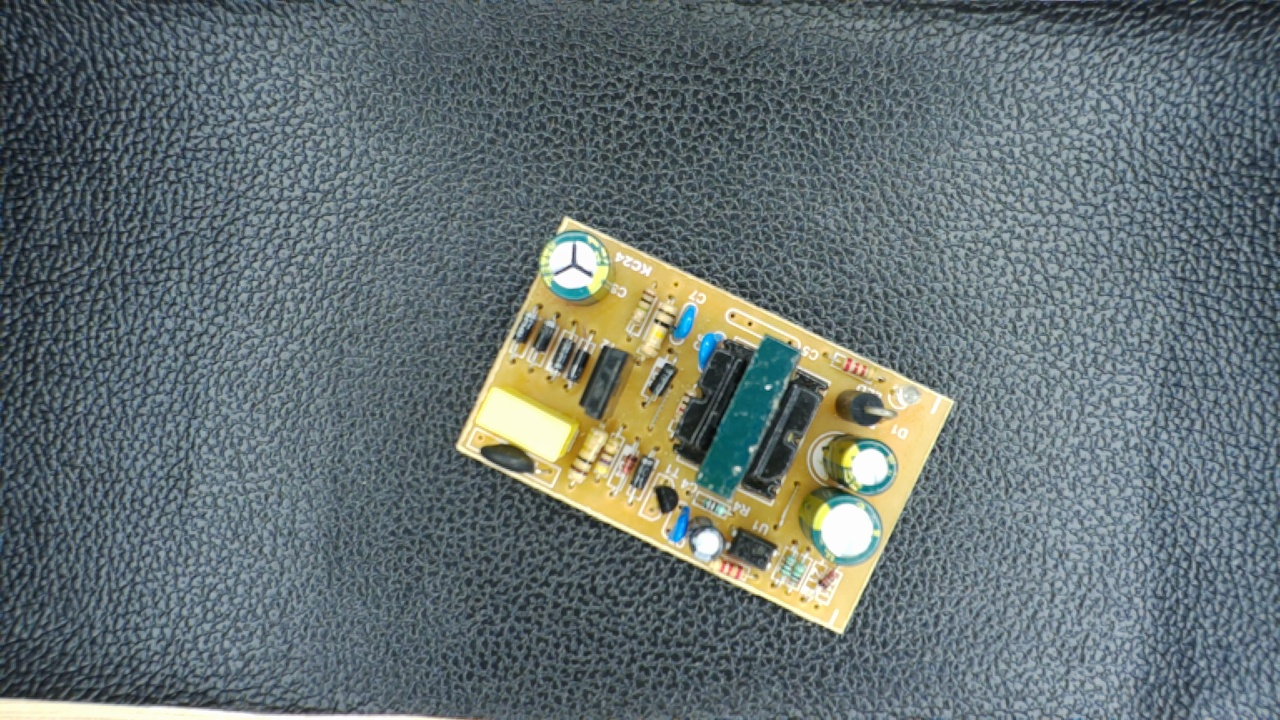fuse: (468, 437, 548, 480)
hv_capacitor: (537, 228, 617, 309)
optocoupler: (723, 525, 779, 578)
